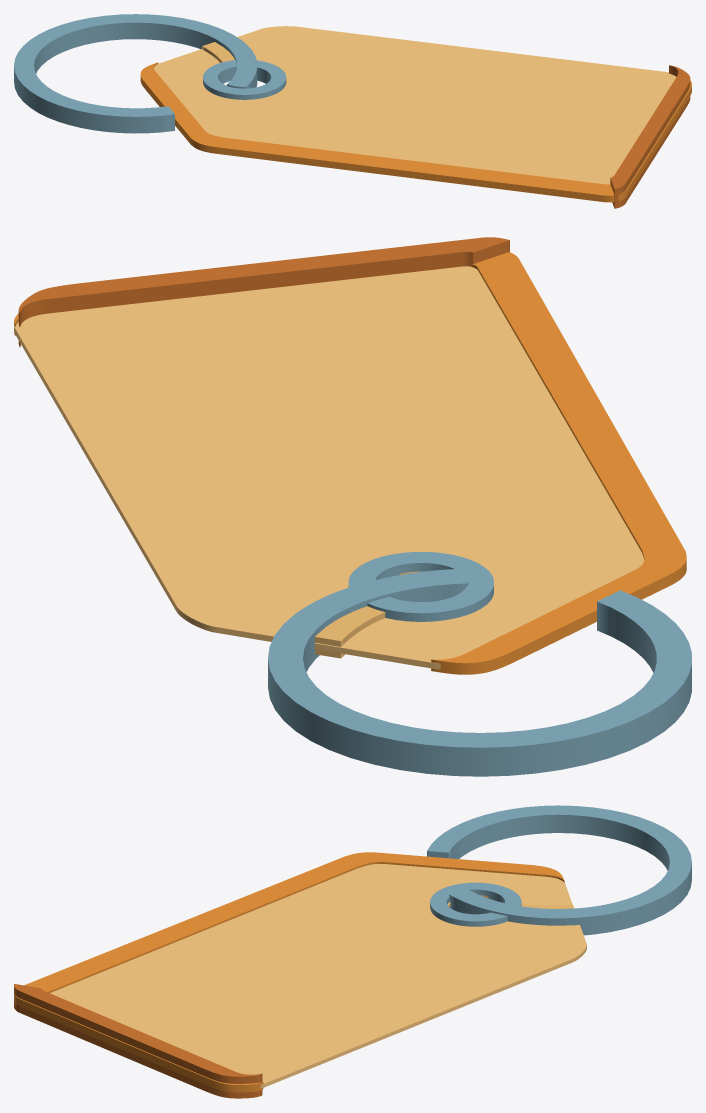
Rendered from emoji_u1f3f7.glb.
The picture shows the model from 3 angles, top to bottom: view 1: azimuth 30°, elevation 25°; view 2: azimuth 150°, elevation 25°; view 3: azimuth 270°, elevation 25°; orthographic projection. The views are drawn at different scales.
Parts seen in each view (by area): view 1: emoji_u1f3f7; view 2: emoji_u1f3f7; view 3: emoji_u1f3f7.
Part boxes in pixels (<box>): emoji_u1f3f7: <box>14,14,691,208</box>; emoji_u1f3f7: <box>14,237,691,776</box>; emoji_u1f3f7: <box>14,805,691,1098</box>.
Size of the model in its own units: 0.0323 by 0.0012 by 0.0337.
